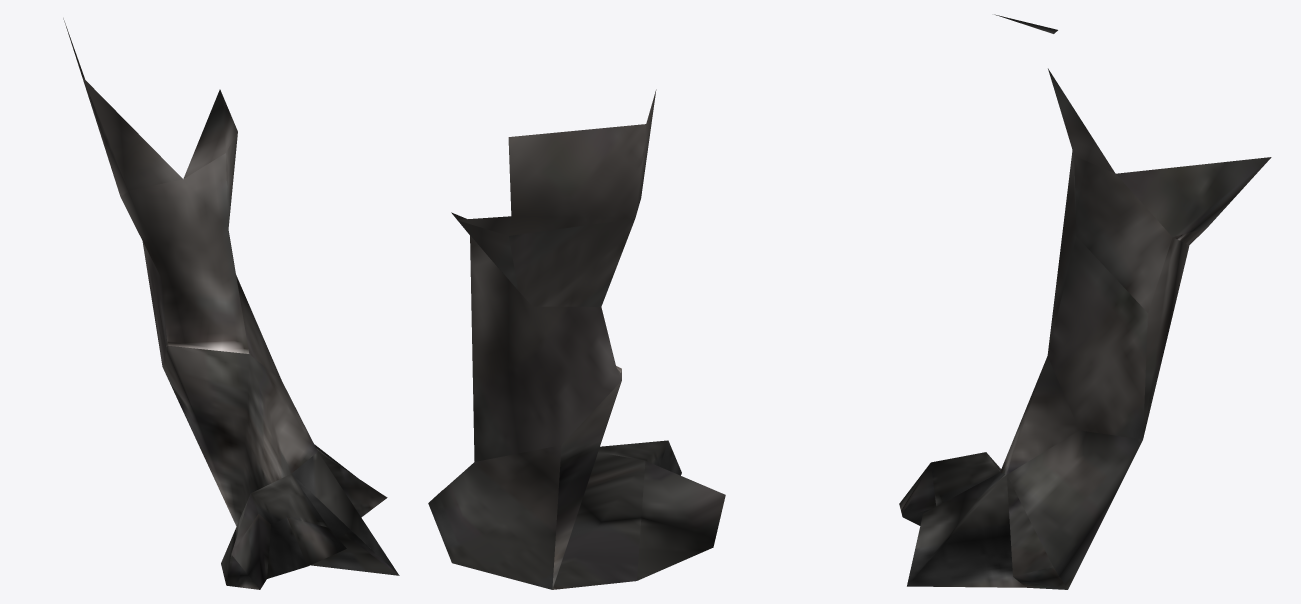
File: hound_leg_fposx.glb
3 views of the same model, side by side, from view 1: azimuth 30°, elevation 25°; view 2: azimuth 150°, elevation 25°; view 3: azimuth 270°, elevation 25° (orthographic). The views are drawn at different scales.
Parts seen in each view (by area): view 1: hound_leg_fposx; view 2: hound_leg_fposx; view 3: hound_leg_fposx.
Boxes of the visible parts, box(x1,y1,x2,y2) form: hound_leg_fposx: box(63, 18, 399, 589); hound_leg_fposx: box(428, 89, 725, 589); hound_leg_fposx: box(899, 14, 1271, 589).
Bounding box in the file's own units: 0.5507 × 0.6905 × 0.5207.
Materials: 1 (1 with a texture image).
